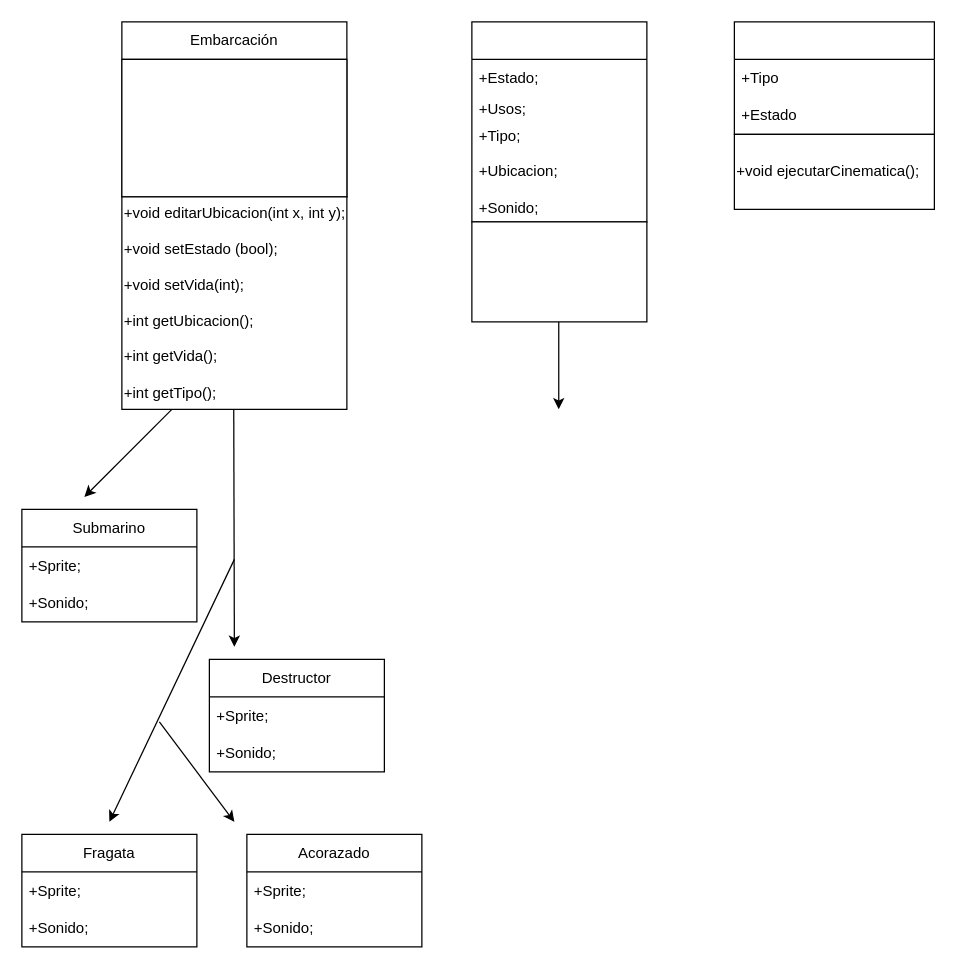
Some shapes in this 956 by 969 pixel diagram are drawn without their labels. Here are the shapes that lost their labels. From the top down, the box of each, then its label:
(733, 21, 934, 134): Elemento
(121, 58, 347, 197): +Vida; +Ubicación; +Estado; +Tipo;
(471, 21, 647, 222): Avion
(471, 221, 647, 322): +void usarAvion(); +void setUbicacion();
